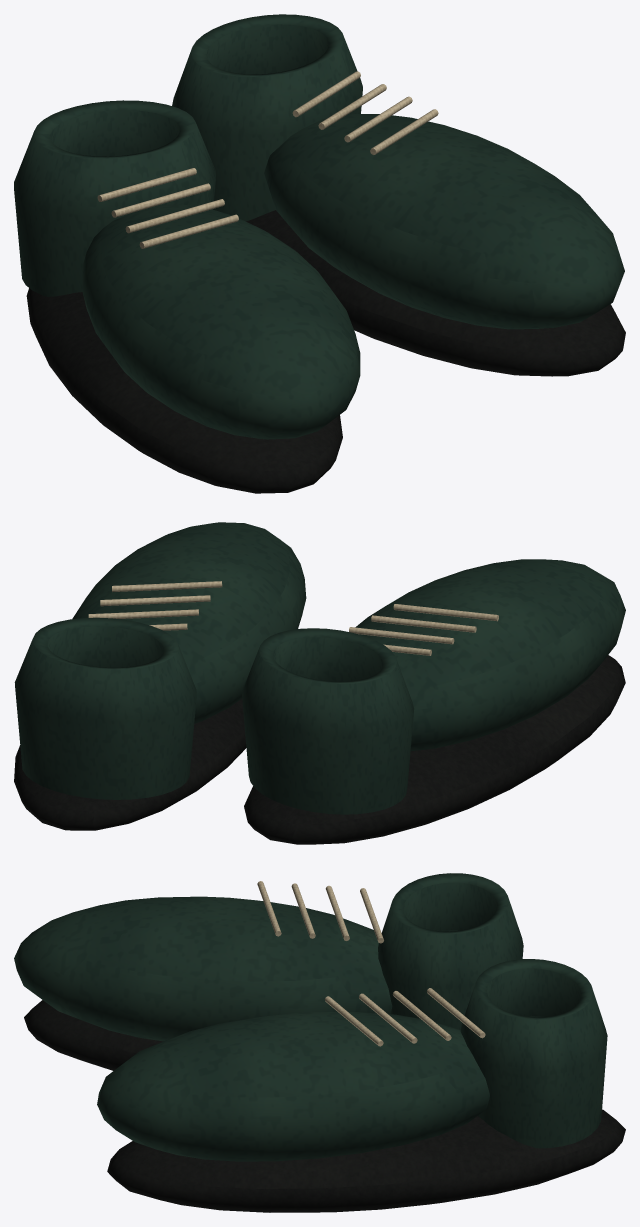
Rendered from Shoes.fbx.
3 views of the same model, one above another, from view 1: azimuth 30°, elevation 25°; view 2: azimuth 150°, elevation 25°; view 3: azimuth 270°, elevation 25° (orthographic). The views are drawn at different scales.
Parts seen in each view (by area): view 1: Shoes_Leather, Shoes_Rubber, Shoes_Linen; view 2: Shoes_Leather, Shoes_Rubber, Shoes_Linen; view 3: Shoes_Leather, Shoes_Rubber, Shoes_Linen.
Part boxes in pixels (box(x1,y1,x2,y2)): Shoes_Leather: box(14, 14, 624, 439); Shoes_Rubber: box(26, 210, 625, 493); Shoes_Linen: box(97, 71, 438, 248); Shoes_Leather: box(14, 522, 625, 814); Shoes_Rubber: box(14, 655, 625, 844); Shoes_Linen: box(88, 581, 498, 655); Shoes_Leather: box(14, 873, 607, 1161); Shoes_Rubber: box(24, 1000, 625, 1212); Shoes_Linen: box(257, 881, 485, 1046).
Size of the model in its own units: 27.79 by 10.9 by 33.59.
